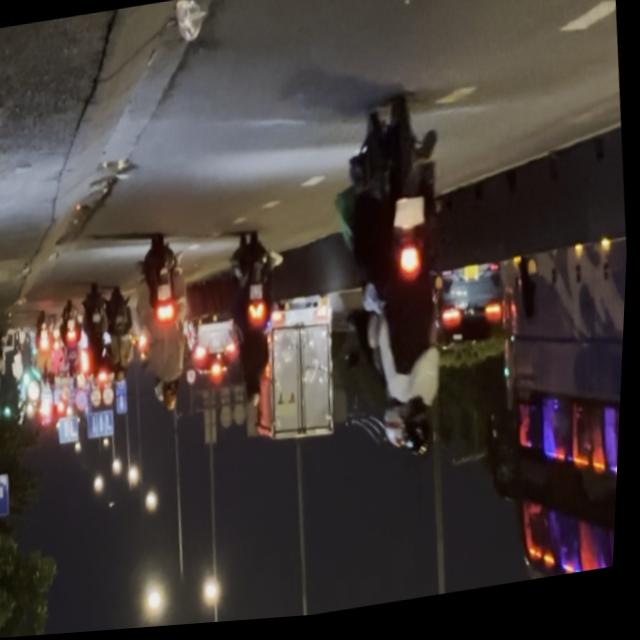helmet: (403, 406, 439, 466), (382, 405, 412, 458)
licenseplate: (323, 96, 473, 478)
nohelmet: (394, 202, 428, 237)
